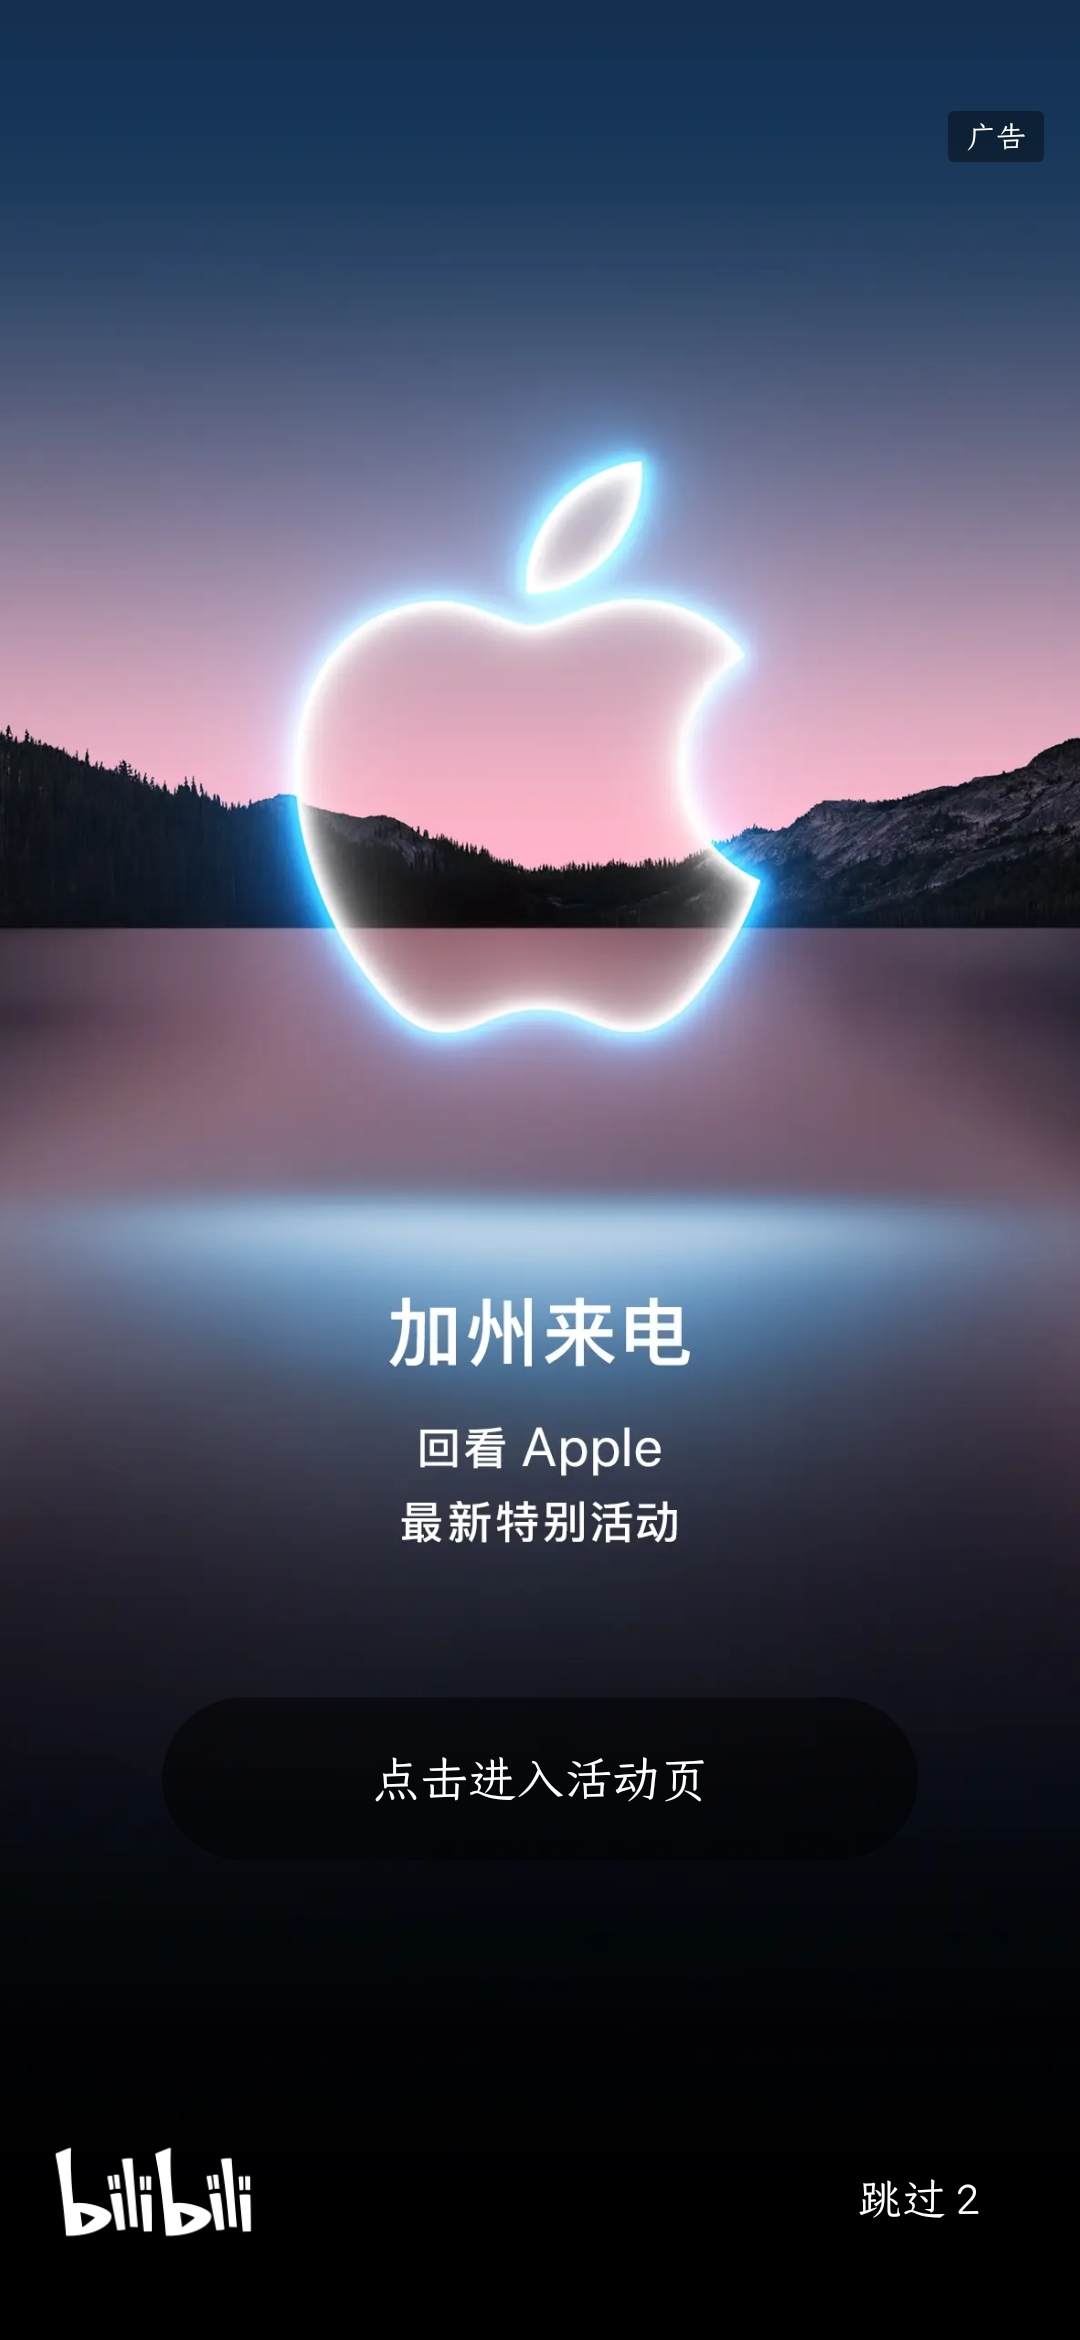skip: (831, 2159, 1005, 2242)
